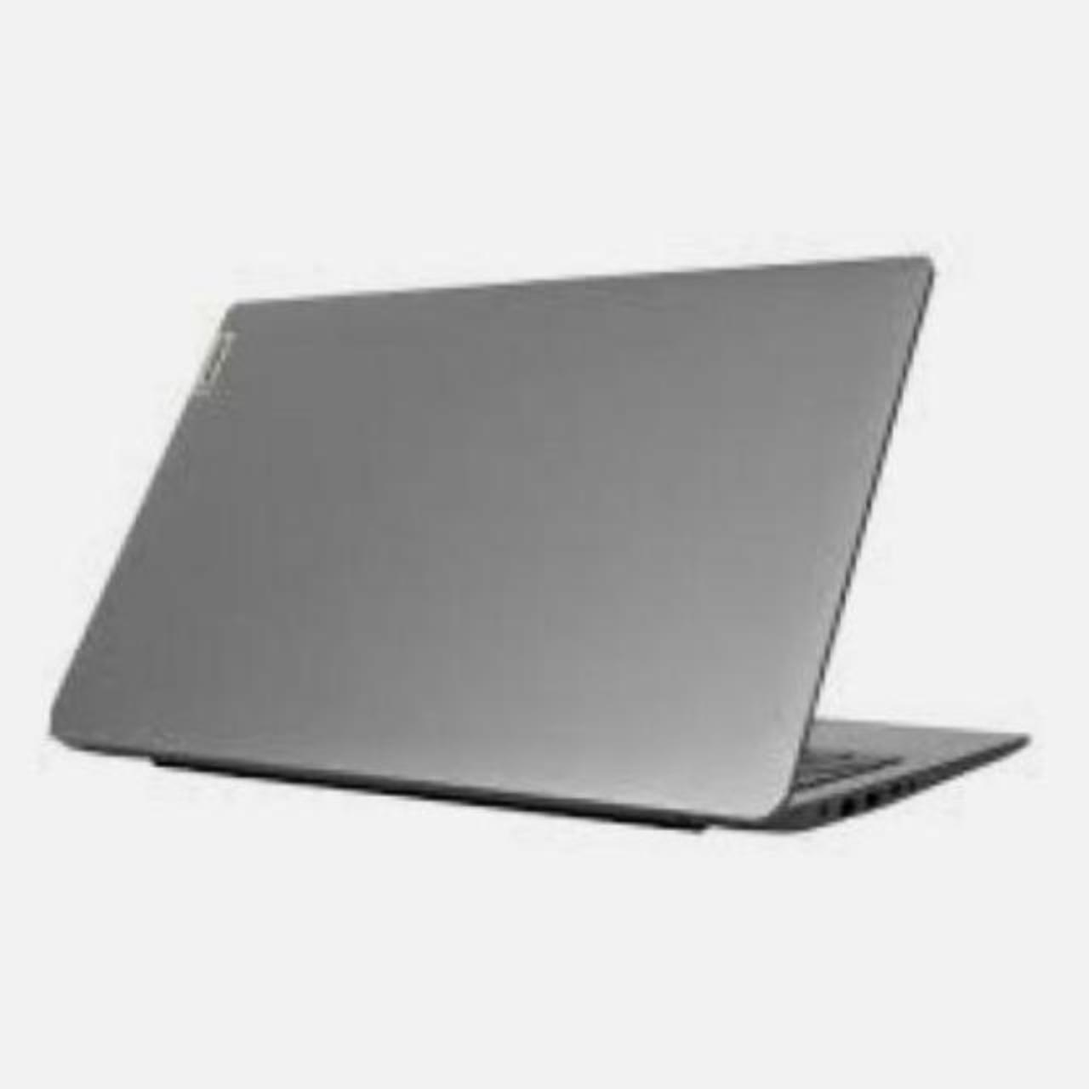laptop: (52, 229, 1054, 877)
